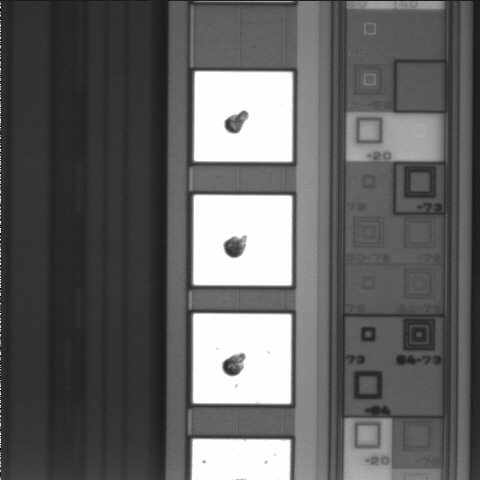pad: (194, 71, 293, 162), (193, 195, 292, 285), (193, 314, 291, 404)
